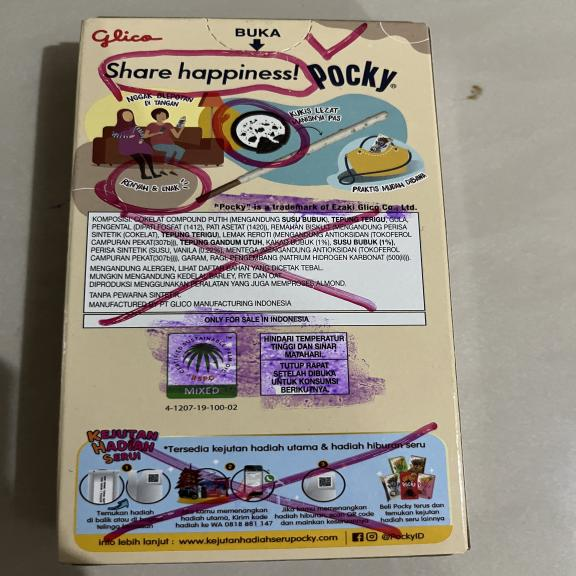Kertas: (55, 22, 470, 564)
